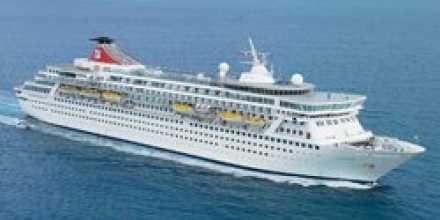youlun: (13, 24, 430, 195)
